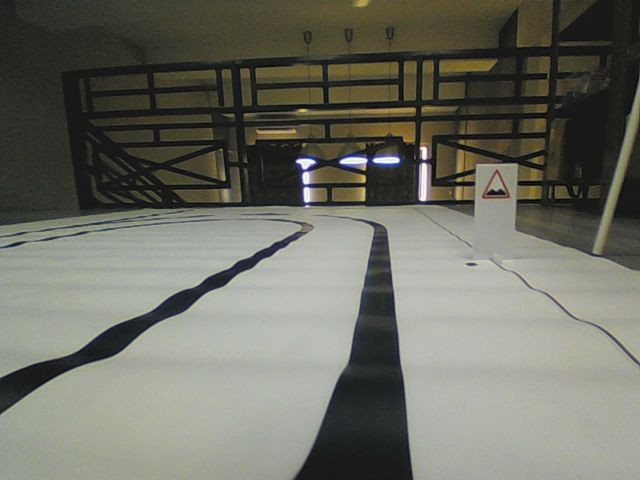Nerov: (480, 168, 511, 201)
